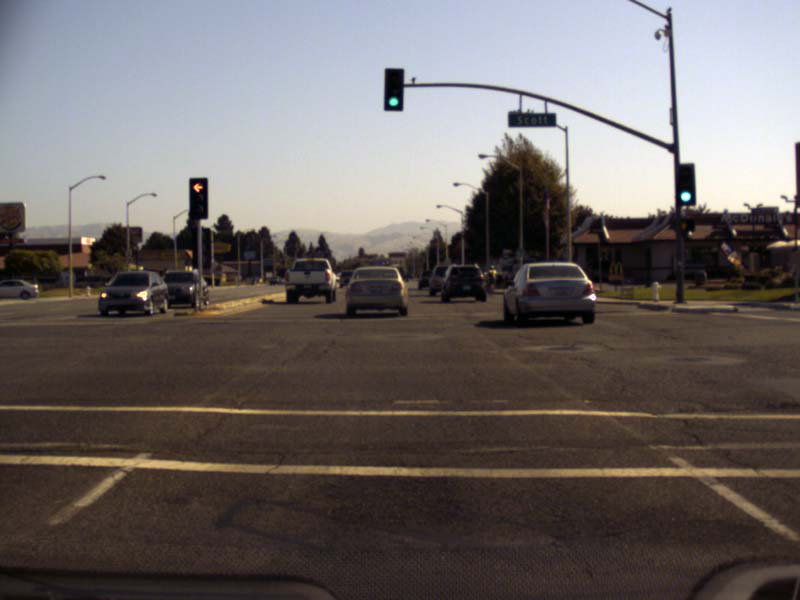Green: (673, 163, 695, 207), (383, 68, 405, 110)
Red: (190, 177, 208, 219)
